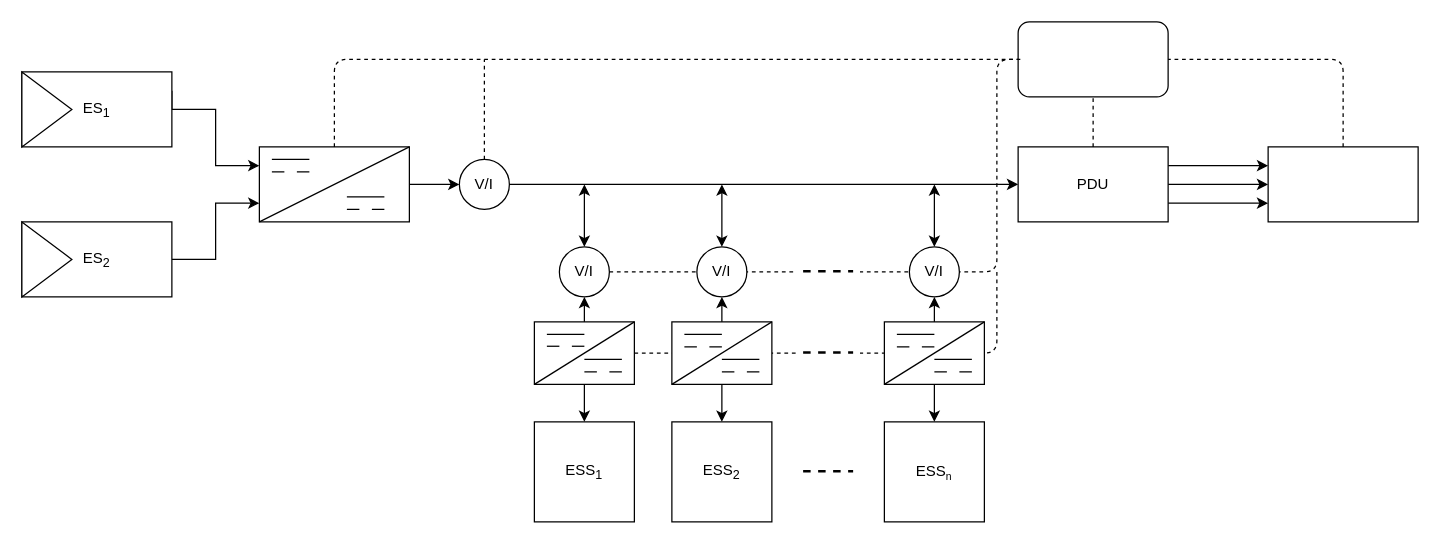
Some shapes in this 1440 by 544 pixel diagram are drawn without their labels. Each missing label, with the centre of its shape:
"LOAD" goes at (1342,184).
"MCU" goes at (1092,59).
